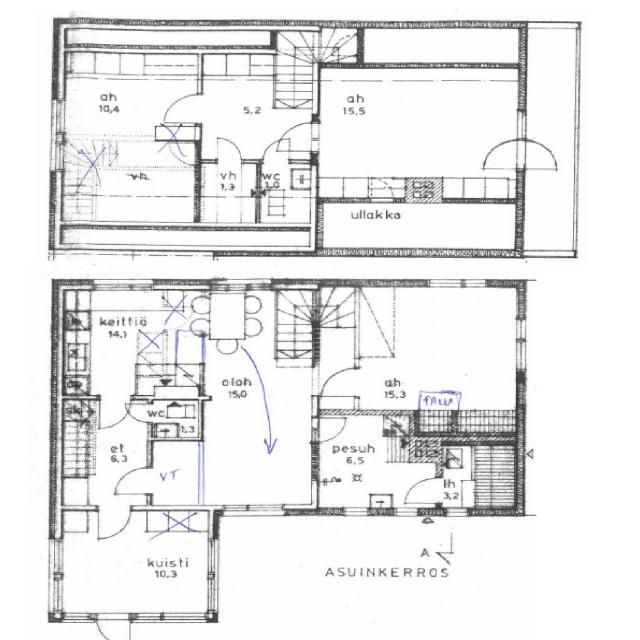door: (277, 122, 317, 151), (486, 140, 527, 167), (518, 140, 559, 167), (161, 94, 200, 122), (322, 369, 358, 396), (99, 505, 130, 536), (407, 478, 443, 503), (100, 394, 130, 424), (118, 468, 153, 493), (98, 612, 129, 640), (311, 418, 346, 442), (262, 137, 289, 164), (218, 140, 240, 164), (126, 404, 152, 422)
